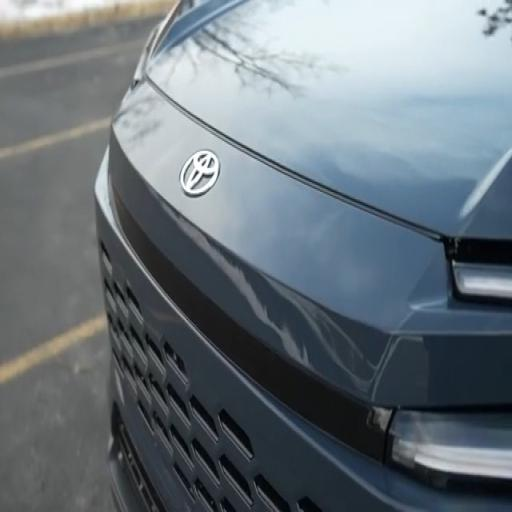bumper: (96, 161, 510, 511)
emblem: (180, 150, 219, 196)
fog_light: (388, 412, 511, 487), (453, 262, 511, 300)
grille: (101, 245, 320, 511), (113, 410, 165, 511)
headlight: (132, 2, 180, 88)
hood: (148, 0, 511, 238)
